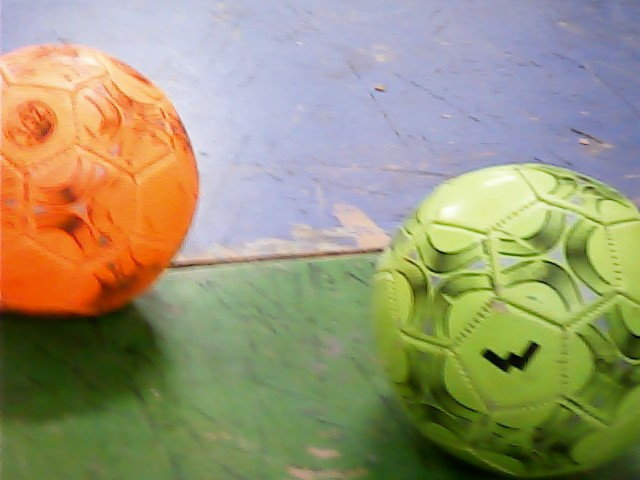Green_ball: (369, 159, 640, 472)
Orange_ball: (1, 43, 209, 319)
